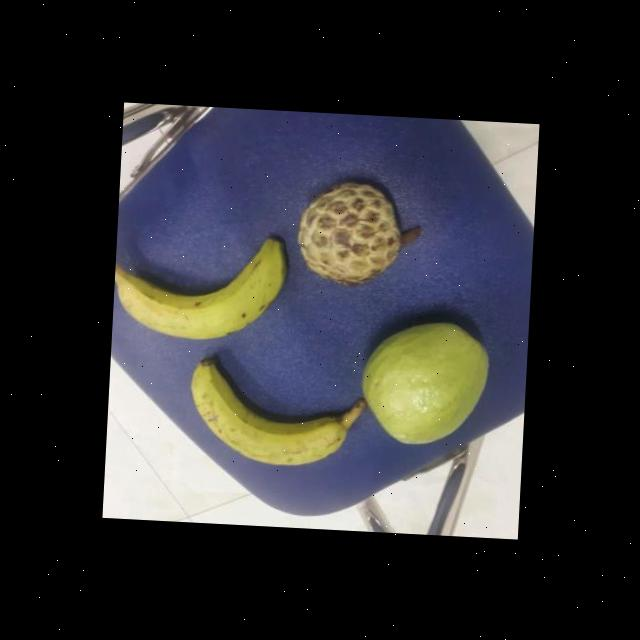Sakya fruit: (296, 178, 421, 290)
banana: (111, 223, 288, 344), (190, 354, 367, 467)
guava: (358, 318, 494, 442)
